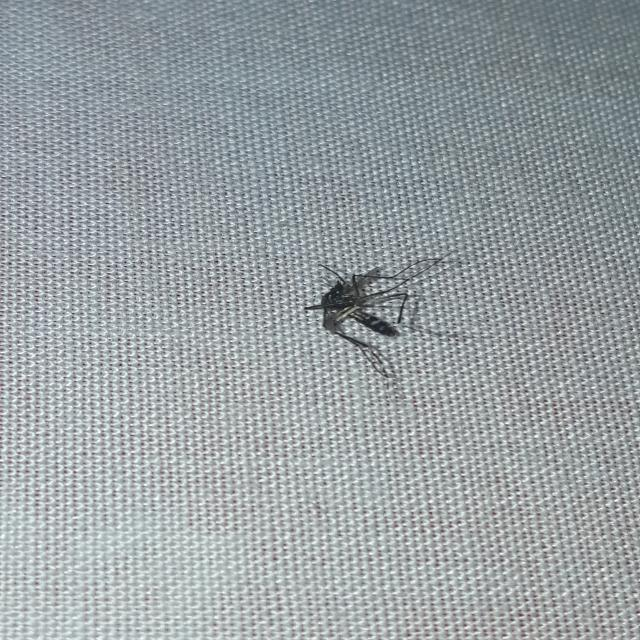albopictus: (282, 251, 467, 377)
